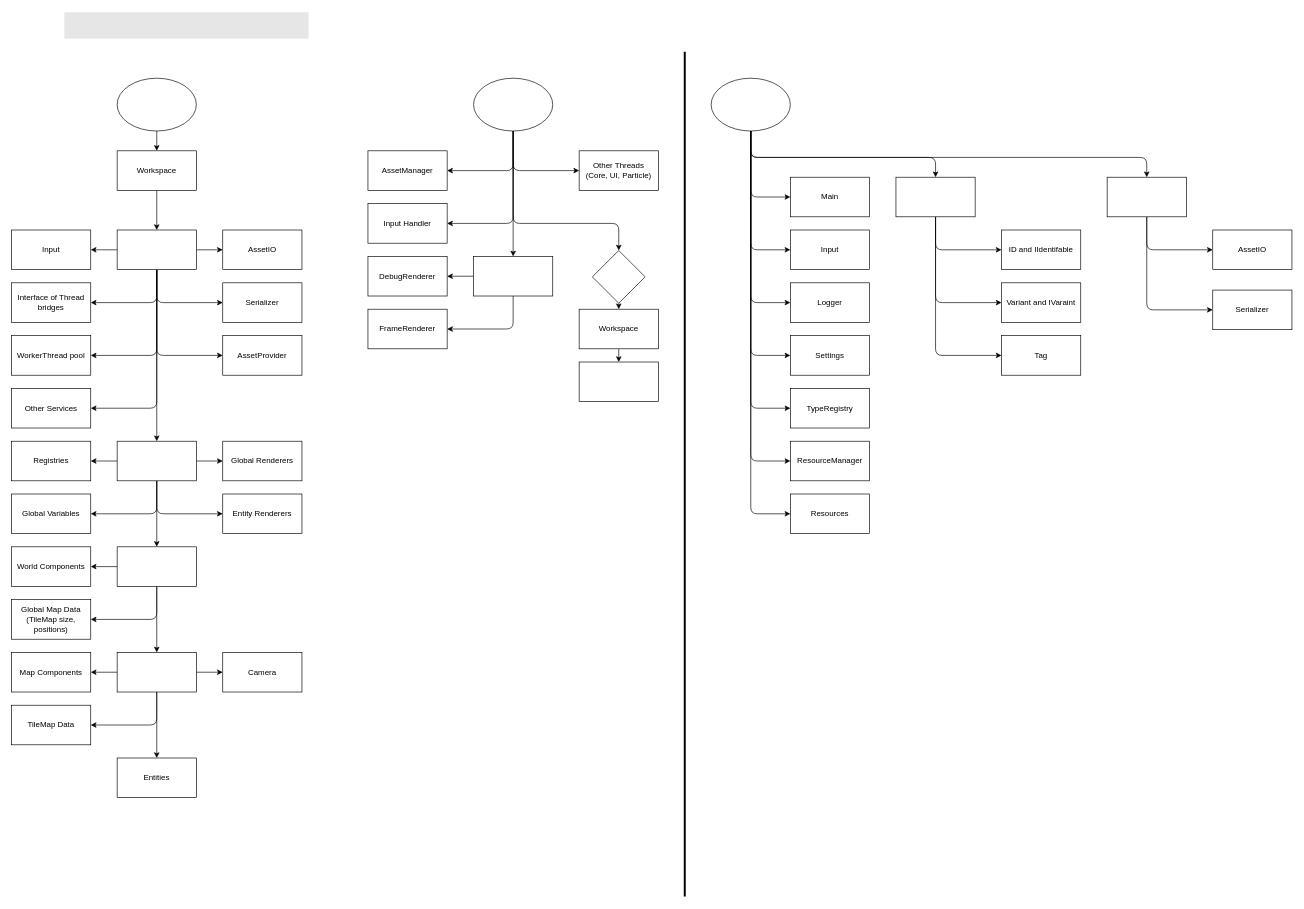
Image size: 1304x909. Some labels were removed from this diagram. Each missing label, with the box of its shape:
(ParticleThread || UIThread) not initialized: (592, 250, 645, 303)
CoreThread: (116, 78, 196, 131)
From UI and Particle Threads: (578, 361, 658, 402)
Identifiers: (895, 177, 975, 217)
IO: (1106, 177, 1186, 217)
Luminix: (710, 78, 790, 131)
Map: (116, 652, 196, 692)
RenderingSystem: (473, 256, 553, 296)
RenderThread (Main Thread): (473, 78, 553, 131)
Services: (116, 229, 196, 270)
Thread Ownership: (64, 12, 308, 38)
Universe: (116, 441, 196, 481)
Worlds: (116, 546, 196, 586)
